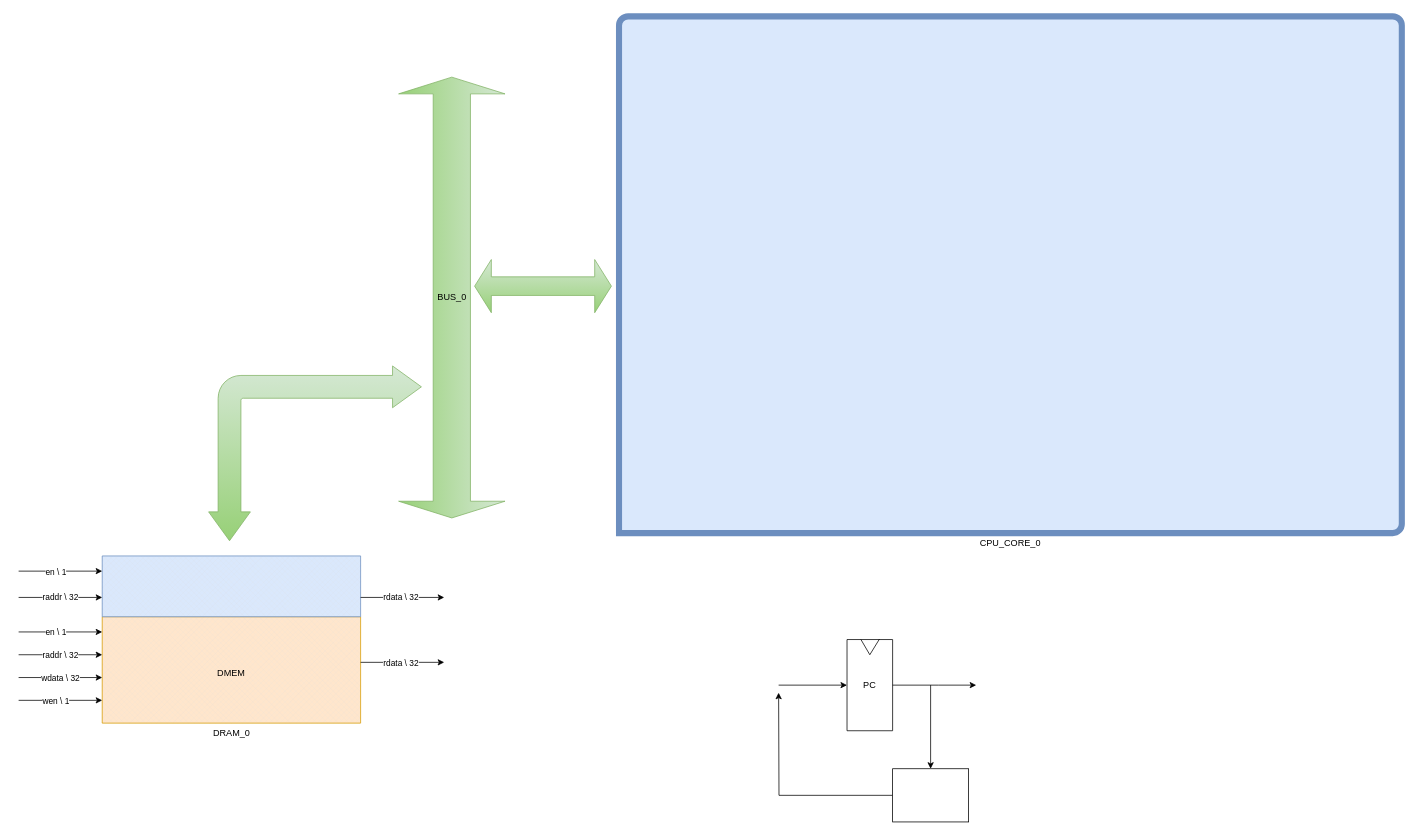
The diagram is 1418 pixels wide and 835 high, and some of its shapes have lost their labels. Here are the shapes that lost their labels. From the top down, the box of each, then its label:
(101, 555, 361, 617): IMEM
(892, 768, 969, 822): Adder+4
